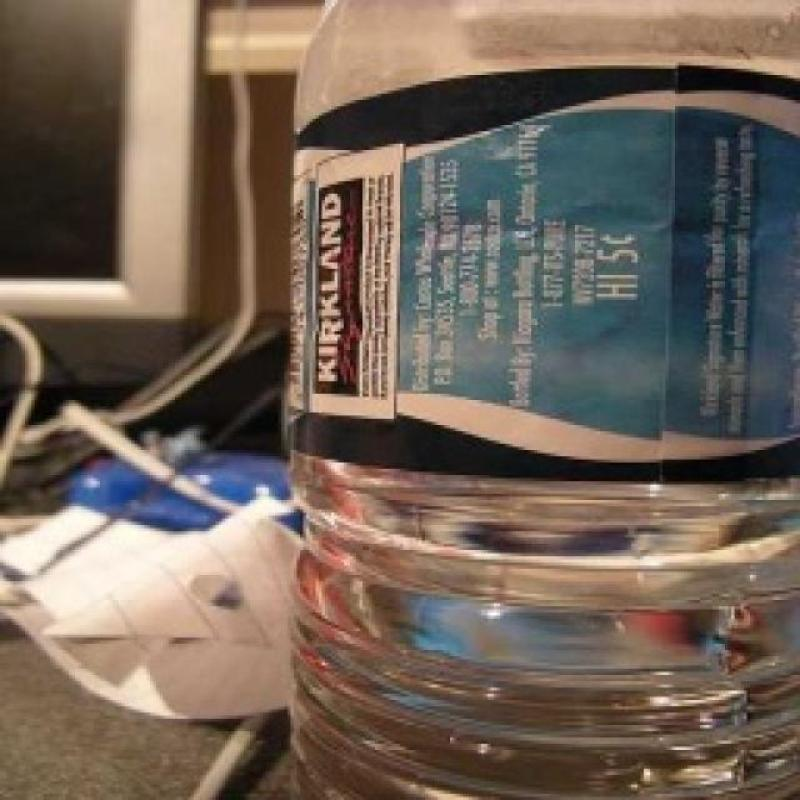botella: (284, 0, 800, 800)
